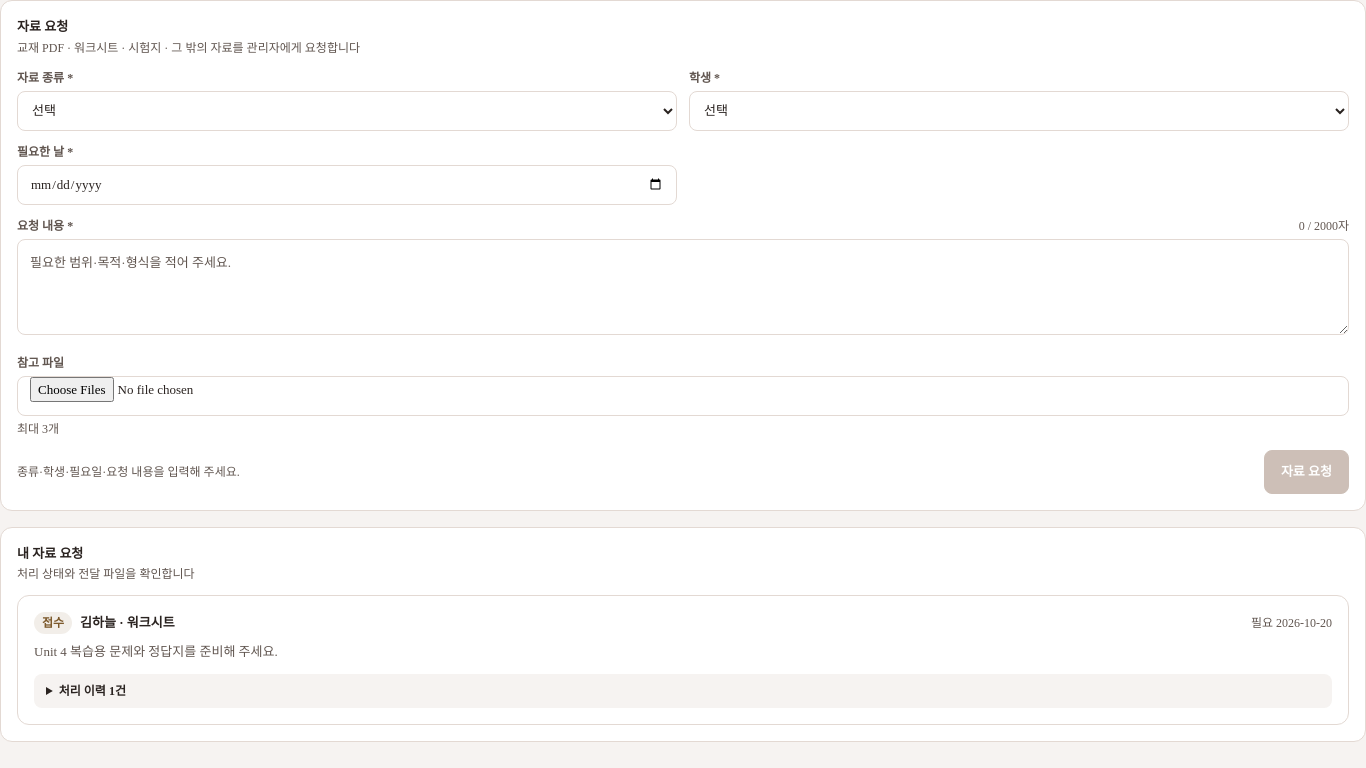
Test case: 강사는 전체 담당 학생과 네 종류를 선택해 생성 계약으로 요청한다
Select "워크시트" in the dropdown labelled "자료 종류 *": (347, 110) [17,90,677,130]
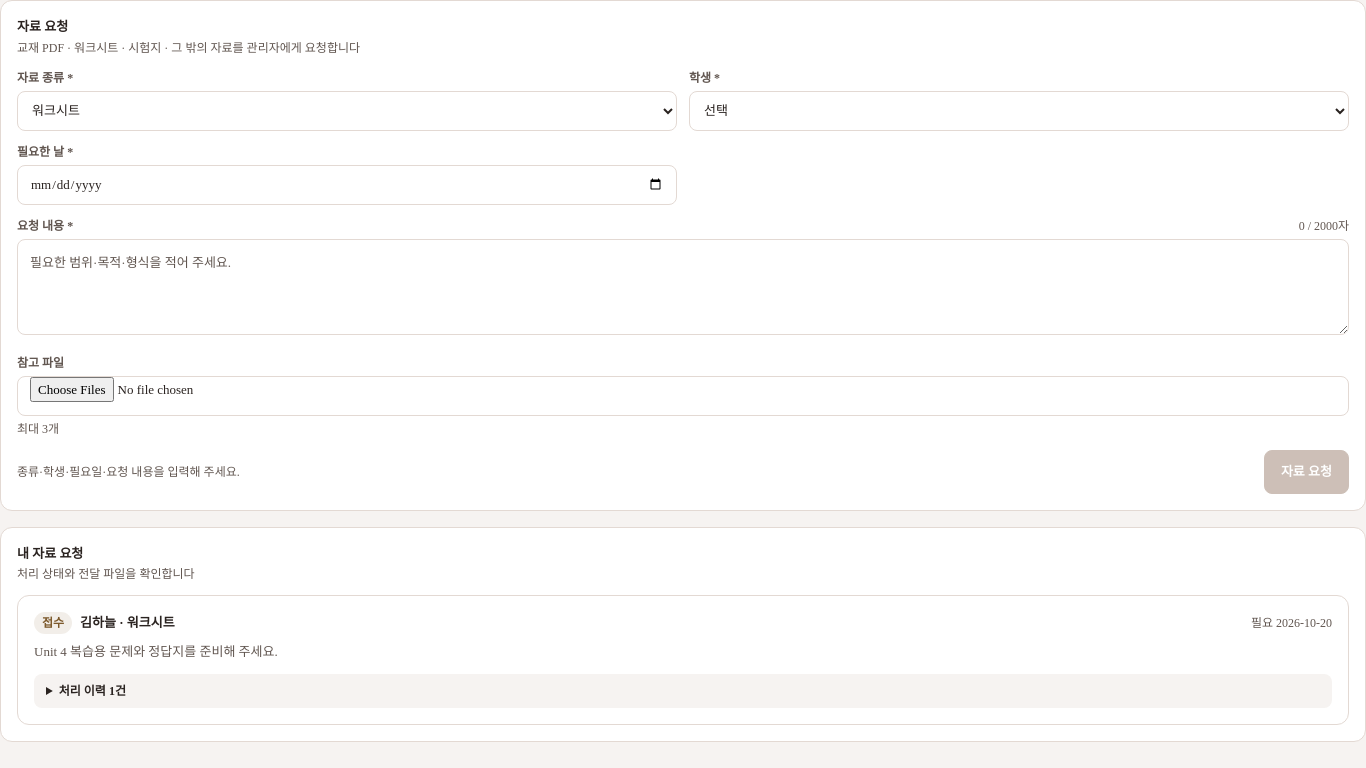
Select "김하늘 · G5" in the dropdown labelled "학생 *": (1019, 110) [689,90,1349,130]
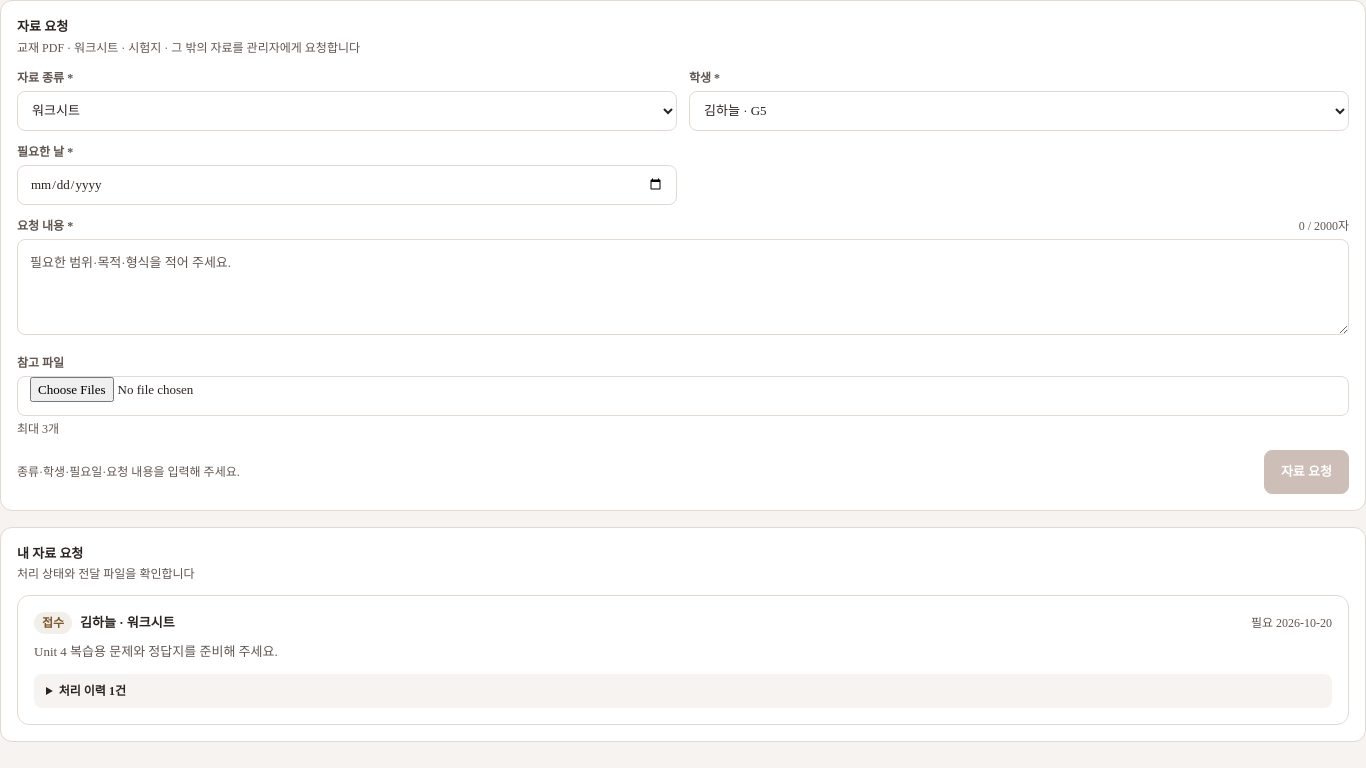
In the date field labelled "필요한 날 *": (347, 184) [17,164,677,204], type "2026-10-20"
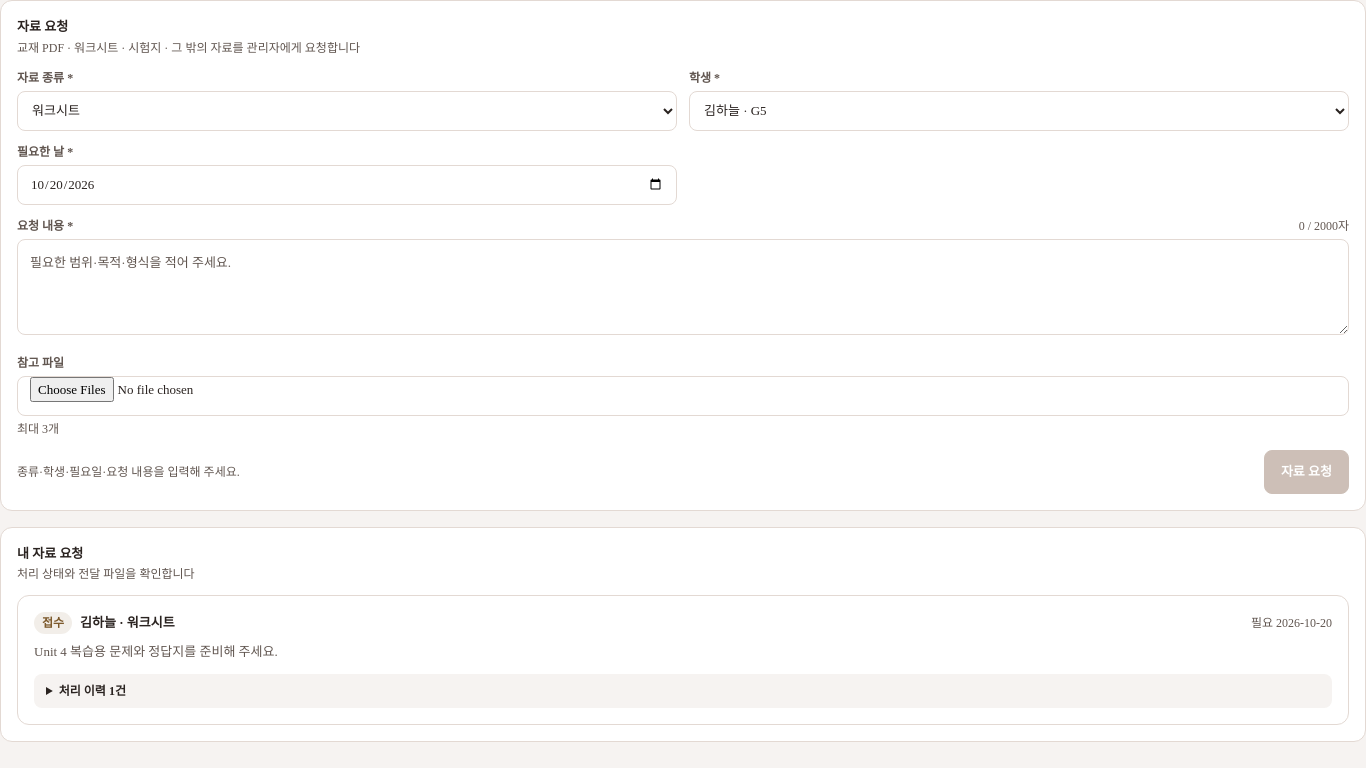
In the text box labelled "요청 내용 *": (683, 286) [17,238,1349,334], type " Unit 4 복습 자료 "
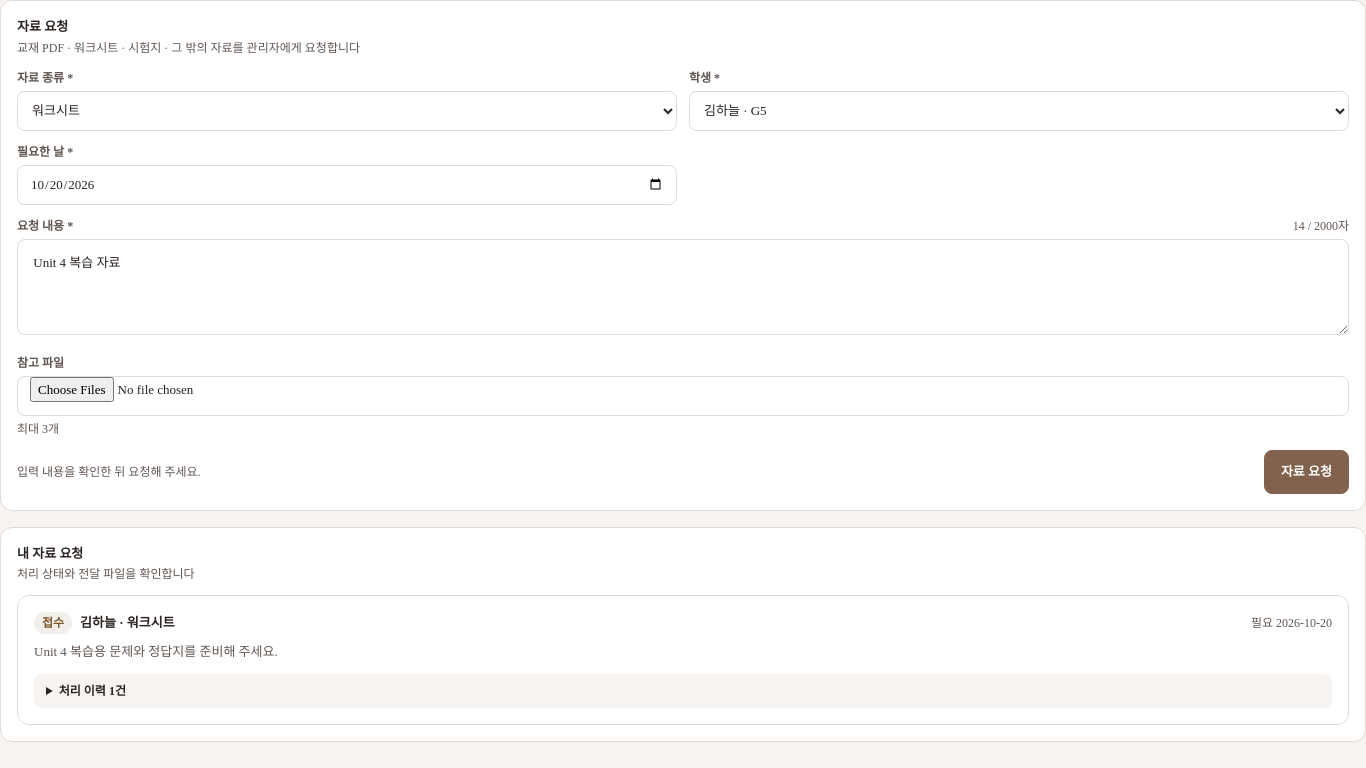
Click the button "자료 요청": click(1306, 472) [1264,450,1349,494]
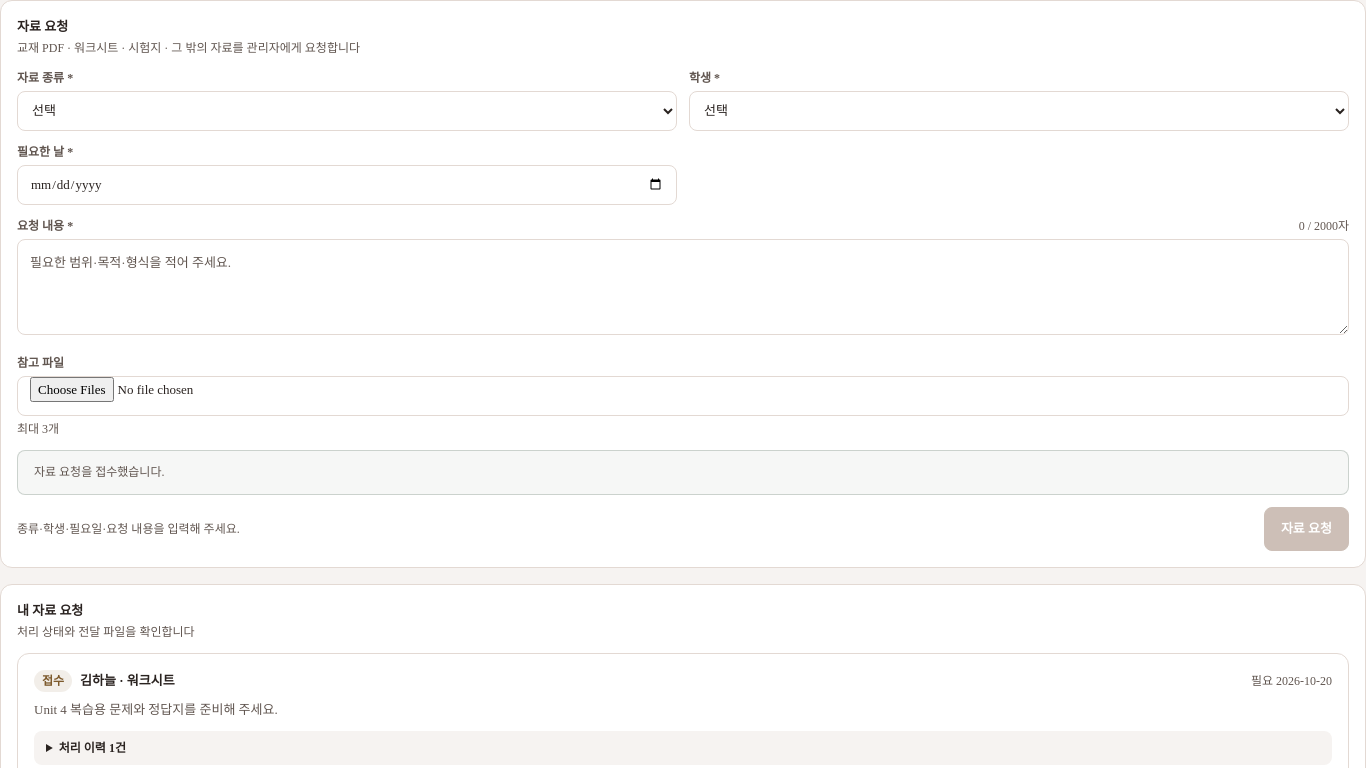
expect the text "자료 요청을 접수했습니다." is shown: met, box [17,450,1349,495]
